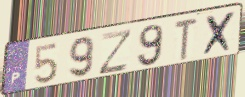5: (32, 40, 60, 86)
9: (135, 23, 166, 68), (67, 35, 97, 80)
T: (173, 17, 200, 62)
X: (201, 9, 239, 58)
Z: (97, 27, 134, 77)
